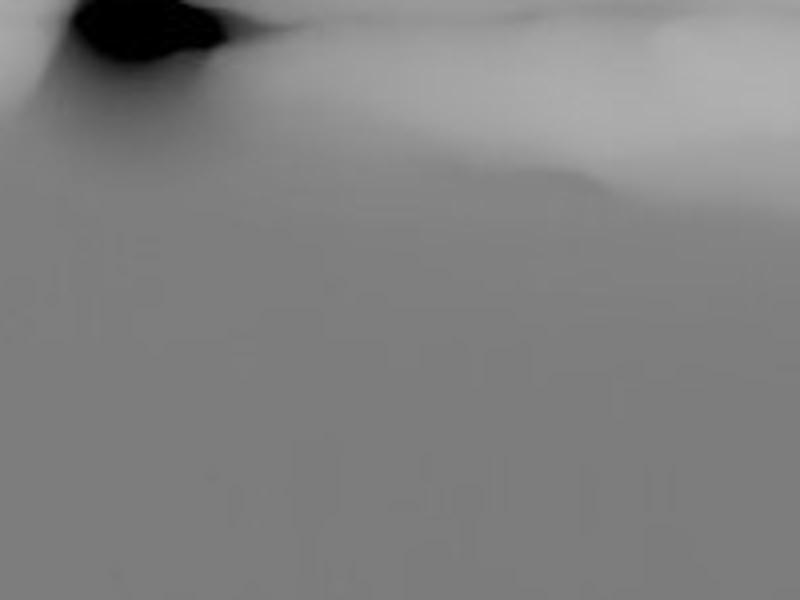defect: (70, 1, 229, 62)
